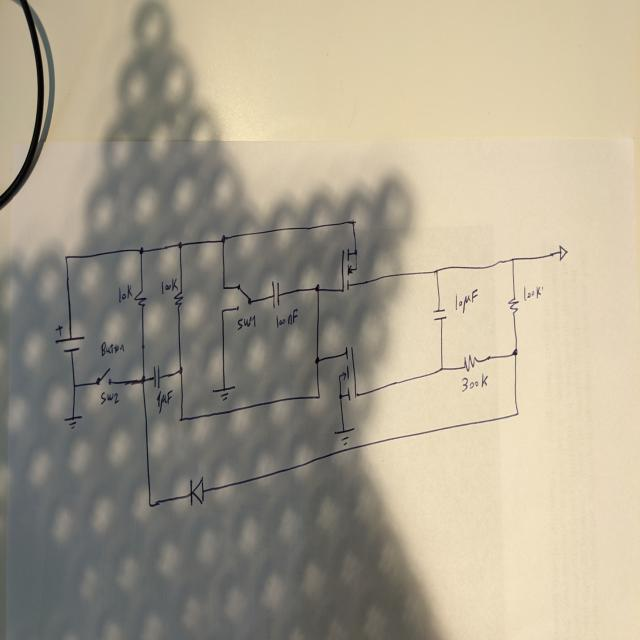capacitor: (432, 305, 447, 323), (271, 279, 280, 309), (152, 363, 161, 389)
diode: (188, 474, 205, 506)
ground: (332, 425, 356, 446), (211, 382, 236, 402), (63, 412, 82, 429)
junction: (220, 232, 226, 245), (512, 345, 518, 358), (140, 373, 146, 386), (314, 282, 320, 293), (438, 363, 444, 374), (138, 245, 144, 255), (178, 365, 184, 375), (177, 240, 183, 250), (71, 380, 77, 390), (178, 414, 184, 424), (147, 499, 153, 509), (514, 408, 520, 418), (433, 266, 439, 275), (63, 252, 68, 262), (510, 254, 515, 264), (350, 218, 356, 226), (221, 283, 226, 292), (314, 356, 319, 364), (316, 392, 321, 400), (220, 306, 224, 315)
resistor: (462, 352, 478, 372), (134, 288, 148, 309), (508, 296, 520, 314), (174, 290, 184, 308)
source: (54, 322, 86, 355)
switch: (94, 364, 114, 388), (236, 282, 252, 312)
terminal: (557, 242, 568, 263)
text: (454, 286, 478, 315), (461, 372, 488, 392), (275, 308, 298, 329), (156, 388, 173, 413), (522, 282, 543, 302), (100, 339, 124, 356), (236, 312, 256, 330), (99, 389, 119, 405), (160, 277, 178, 294), (118, 282, 132, 302)
transistor: (338, 343, 359, 402), (341, 247, 358, 293)
